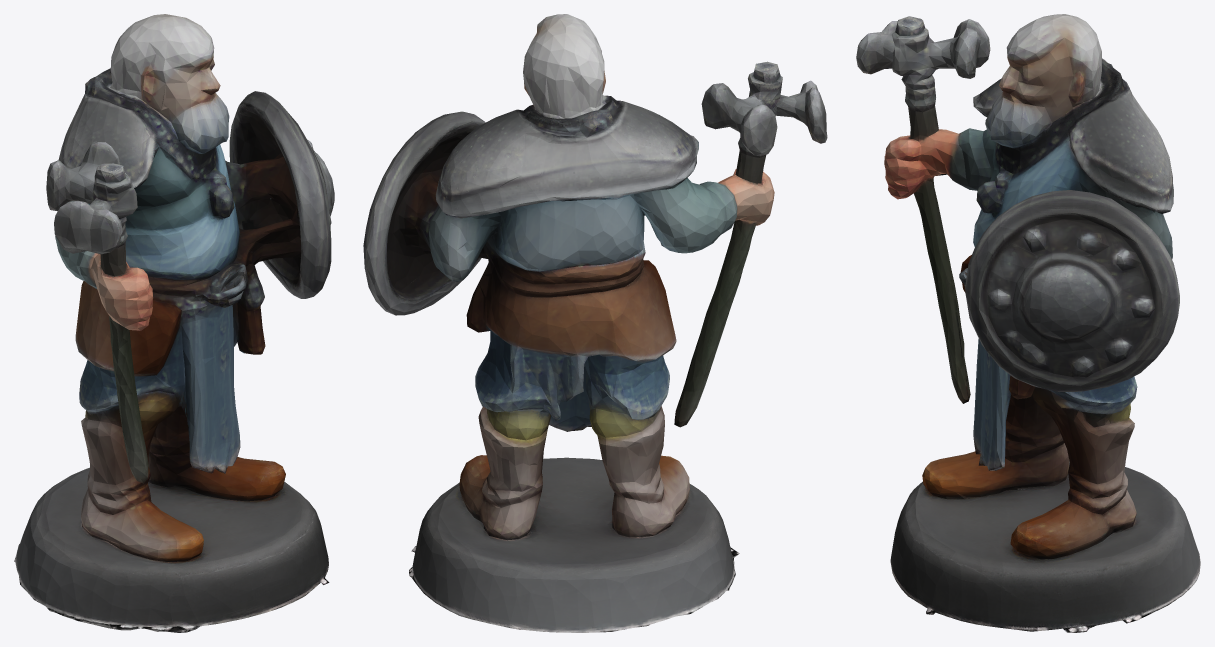
File: stig-303.glb
3 renders of one model, left to right at view 1: azimuth 30°, elevation 25°; view 2: azimuth 150°, elevation 25°; view 3: azimuth 270°, elevation 25°, orthographic.
Parts seen in each view (by area): view 1: world; view 2: world; view 3: world.
Part boxes in pixels (x1,y1,x2,y2): world: (14,14,334,632); world: (363,14,827,632); world: (856,14,1200,632).
Size of the model in its own units: 0.4522 by 0.6739 by 0.3831.
Materials: 1 (1 with a texture image).
